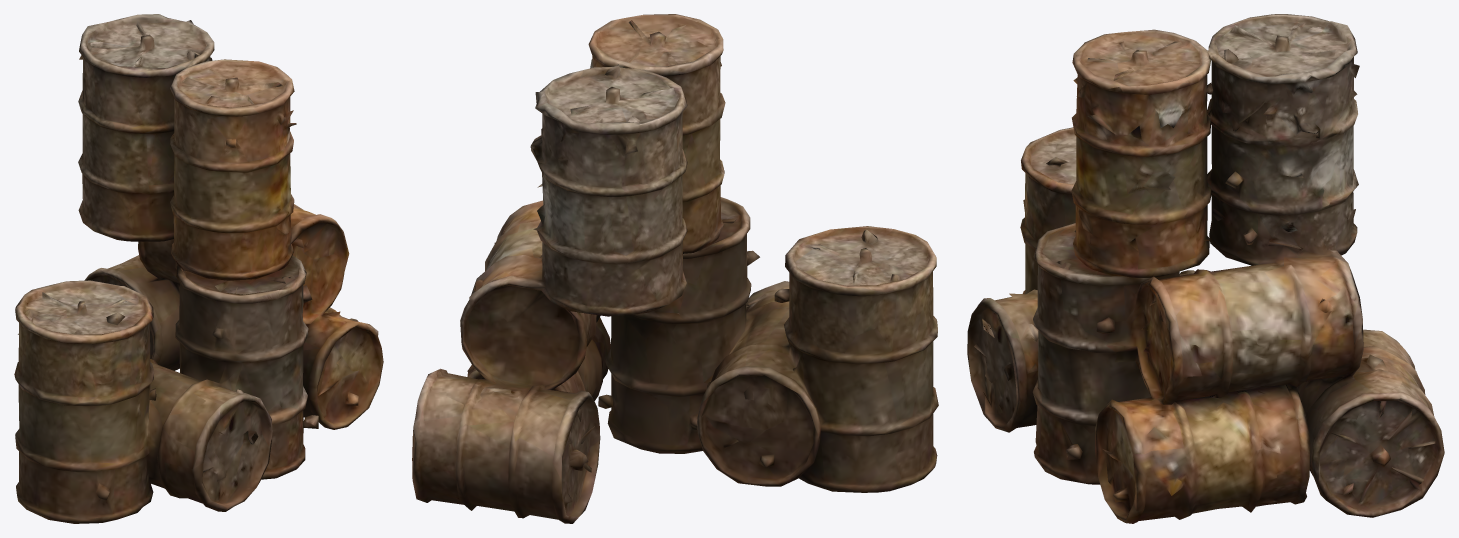
Rendered from p_drums.glb.
3 renders of one model, left to right at view 1: azimuth 30°, elevation 25°; view 2: azimuth 150°, elevation 25°; view 3: azimuth 270°, elevation 25°, orthographic. The views are drawn at different scales.
Visible parts, largest first — view 1: tripo_node_d6dae6b8-2fab-4e06-a0e1-45c2e1c9ebd9; view 2: tripo_node_d6dae6b8-2fab-4e06-a0e1-45c2e1c9ebd9; view 3: tripo_node_d6dae6b8-2fab-4e06-a0e1-45c2e1c9ebd9.
Boxes of the visible parts, <box> form: tripo_node_d6dae6b8-2fab-4e06-a0e1-45c2e1c9ebd9: <box>14,14,383,523</box>; tripo_node_d6dae6b8-2fab-4e06-a0e1-45c2e1c9ebd9: <box>412,14,938,523</box>; tripo_node_d6dae6b8-2fab-4e06-a0e1-45c2e1c9ebd9: <box>967,14,1444,523</box>.
Bounding box in the file's own units: 1 × 0.9338 × 0.9767.
1 material, 1 textured.
